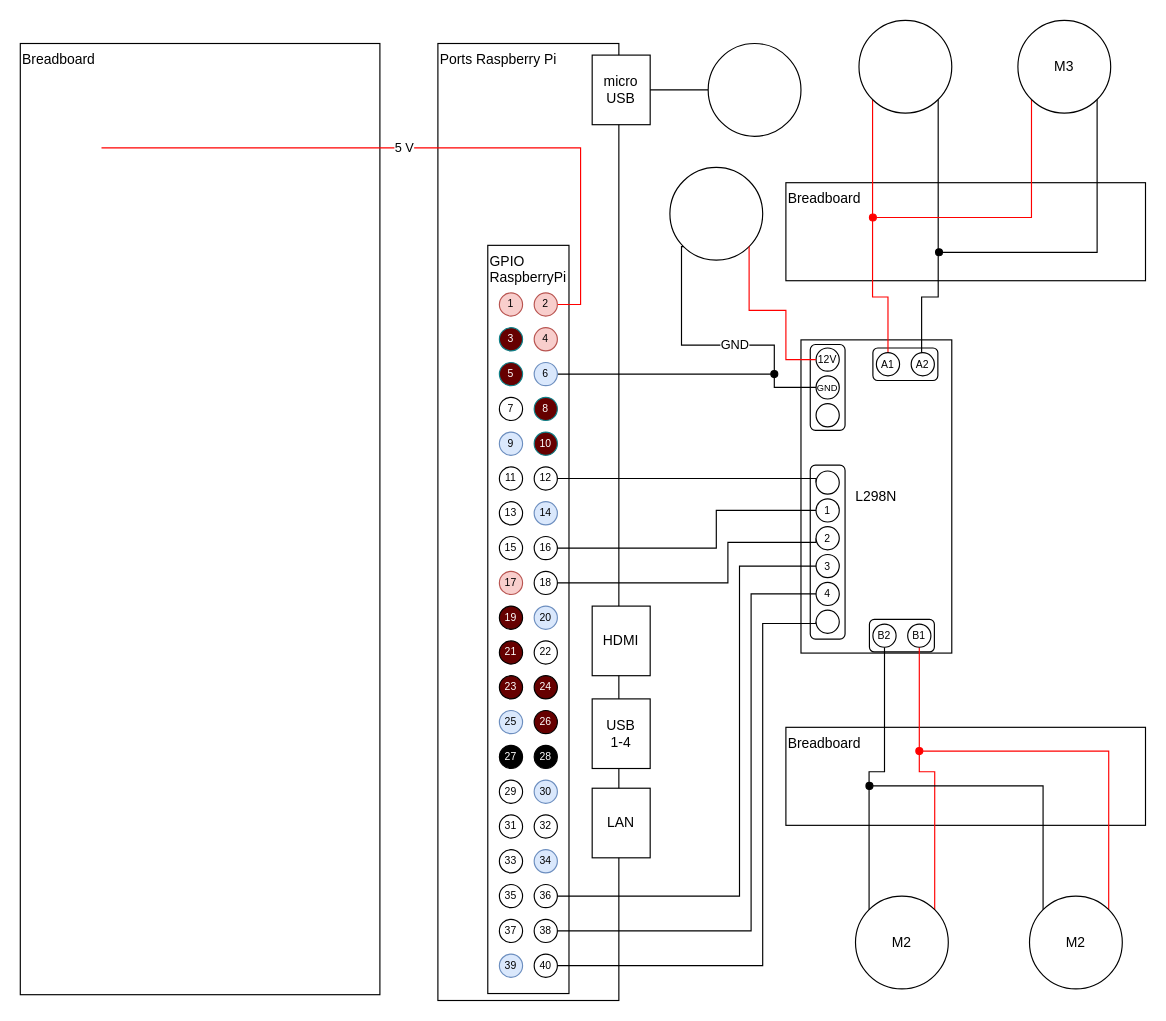
Some shapes in this 1166 by 1021 pixel diagram are drawn without their labels. The centre of each missing label's shape, as x and y in pixels:
"12V Batterie" belongs at (716,213).
"5V" belongs at (827,415).
"EA" belongs at (827,482).
"EB" belongs at (827,621).
"M1" belongs at (905,66).
"Powerbank oder PC" belongs at (754,89).
